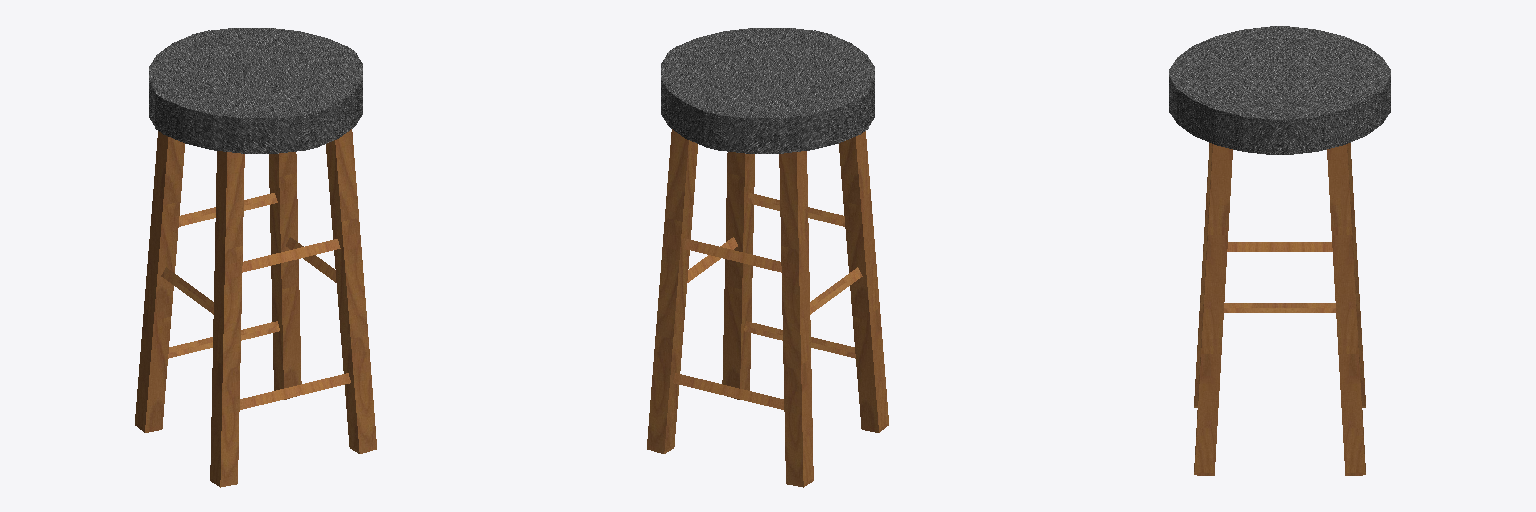
The picture shows the model from 3 angles: view 1: azimuth 30°, elevation 25°; view 2: azimuth 150°, elevation 25°; view 3: azimuth 270°, elevation 25°; orthographic projection.
Parts seen in each view (by area): view 1: Mesh10 chair_stool_simple_quarter2 Simple_stool1 Component_7_1 M, Mesh9 chair_stool_simple_quarter2 Simple_stool1 Component_7_1 Mo, Mesh5 chair_stool_simple_quarter1 Simple_stool1 Component_7_1 Mo, Mesh20 chair_stool_simple_quarter4 Simple_stool1 Component_7_1 M, Mesh15 chair_stool_simple_quarter3 Simple_stool1 Component_7_1 M, Mesh4 chair_stool_simple_quarter1 Simple_stool1 Component_7_1 Mo, Mesh19 chair_stool_simple_quarter4 Simple_stool1 Component_7_1 M, Mesh14 chair_stool_simple_quarter3 Simple_stool1 Component_7_1 M, Mesh3 chair_stool_simple_bar3 chair_stool_simple_quarter1 Simple, Mesh8 chair_stool_simple_bar6 chair_stool_simple_quarter2 Simple, Mesh1 chair_stool_simple_bar1 chair_stool_simple_quarter1 Simple; view 2: Mesh20 chair_stool_simple_quarter4 Simple_stool1 Component_7_1 M, Mesh15 chair_stool_simple_quarter3 Simple_stool1 Component_7_1 M, Mesh19 chair_stool_simple_quarter4 Simple_stool1 Component_7_1 M, Mesh10 chair_stool_simple_quarter2 Simple_stool1 Component_7_1 M, Mesh5 chair_stool_simple_quarter1 Simple_stool1 Component_7_1 Mo, Mesh14 chair_stool_simple_quarter3 Simple_stool1 Component_7_1 M, Mesh4 chair_stool_simple_quarter1 Simple_stool1 Component_7_1 Mo, Mesh9 chair_stool_simple_quarter2 Simple_stool1 Component_7_1 Mo, Mesh13 chair_stool_simple_bar9 chair_stool_simple_quarter3 Simpl, Mesh18 chair_stool_simple_bar12 chair_stool_simple_quarter4 Simp, Mesh11 chair_stool_simple_bar7 chair_stool_simple_quarter3 Simpl; view 3: Mesh4 chair_stool_simple_quarter1 Simple_stool1 Component_7_1 Mo, Mesh14 chair_stool_simple_quarter3 Simple_stool1 Component_7_1 M, Mesh5 chair_stool_simple_quarter1 Simple_stool1 Component_7_1 Mo, Mesh15 chair_stool_simple_quarter3 Simple_stool1 Component_7_1 M, Mesh19 chair_stool_simple_quarter4 Simple_stool1 Component_7_1 M, Mesh9 chair_stool_simple_quarter2 Simple_stool1 Component_7_1 Mo, Mesh20 chair_stool_simple_quarter4 Simple_stool1 Component_7_1 M, Mesh10 chair_stool_simple_quarter2 Simple_stool1 Component_7_1 M, Mesh2 chair_stool_simple_bar2 chair_stool_simple_quarter1 Simple, Mesh12 chair_stool_simple_bar8 chair_stool_simple_quarter3 Simpl.
Boxes of the visible parts, box(x1,y1,x2,y2) form: Mesh10 chair_stool_simple_quarter2 Simple_stool1 Component_7_1 M: box(210, 151, 244, 487); Mesh9 chair_stool_simple_quarter2 Simple_stool1 Component_7_1 Mo: box(155, 68, 319, 153); Mesh5 chair_stool_simple_quarter1 Simple_stool1 Component_7_1 Mo: box(326, 129, 376, 453); Mesh20 chair_stool_simple_quarter4 Simple_stool1 Component_7_1 M: box(135, 131, 184, 432); Mesh15 chair_stool_simple_quarter3 Simple_stool1 Component_7_1 M: box(269, 152, 301, 399); Mesh4 chair_stool_simple_quarter1 Simple_stool1 Component_7_1 Mo: box(255, 46, 362, 150); Mesh19 chair_stool_simple_quarter4 Simple_stool1 Component_7_1 M: box(149, 30, 269, 134); Mesh14 chair_stool_simple_quarter3 Simple_stool1 Component_7_1 M: box(192, 28, 356, 73); Mesh3 chair_stool_simple_bar3 chair_stool_simple_quarter1 Simple: box(292, 373, 350, 396); Mesh8 chair_stool_simple_bar6 chair_stool_simple_quarter2 Simple: box(240, 387, 293, 409); Mesh1 chair_stool_simple_bar1 chair_stool_simple_quarter1 Simple: box(288, 239, 340, 260); Mesh20 chair_stool_simple_quarter4 Simple_stool1 Component_7_1 M: box(779, 151, 813, 487); Mesh15 chair_stool_simple_quarter3 Simple_stool1 Component_7_1 M: box(647, 129, 697, 453); Mesh19 chair_stool_simple_quarter4 Simple_stool1 Component_7_1 M: box(704, 73, 868, 153); Mesh10 chair_stool_simple_quarter2 Simple_stool1 Component_7_1 M: box(839, 131, 888, 432); Mesh5 chair_stool_simple_quarter1 Simple_stool1 Component_7_1 Mo: box(722, 152, 754, 399); Mesh14 chair_stool_simple_quarter3 Simple_stool1 Component_7_1 M: box(661, 46, 773, 150); Mesh4 chair_stool_simple_quarter1 Simple_stool1 Component_7_1 Mo: box(667, 28, 831, 78); Mesh9 chair_stool_simple_quarter2 Simple_stool1 Component_7_1 Mo: box(757, 30, 874, 134); Mesh13 chair_stool_simple_bar9 chair_stool_simple_quarter3 Simpl: box(673, 373, 731, 396); Mesh18 chair_stool_simple_bar12 chair_stool_simple_quarter4 Simp: box(730, 387, 783, 409); Mesh11 chair_stool_simple_bar7 chair_stool_simple_quarter3 Simpl: box(683, 239, 735, 260); Mesh4 chair_stool_simple_quarter1 Simple_stool1 Component_7_1 Mo: box(1169, 69, 1289, 154); Mesh14 chair_stool_simple_quarter3 Simple_stool1 Component_7_1 M: box(1270, 69, 1390, 154); Mesh5 chair_stool_simple_quarter1 Simple_stool1 Component_7_1 Mo: box(1194, 144, 1232, 475); Mesh15 chair_stool_simple_quarter3 Simple_stool1 Component_7_1 M: box(1327, 144, 1365, 475); Mesh19 chair_stool_simple_quarter4 Simple_stool1 Component_7_1 M: box(1270, 26, 1390, 112); Mesh9 chair_stool_simple_quarter2 Simple_stool1 Component_7_1 Mo: box(1169, 26, 1289, 112); Mesh20 chair_stool_simple_quarter4 Simple_stool1 Component_7_1 M: box(1348, 143, 1365, 407); Mesh10 chair_stool_simple_quarter2 Simple_stool1 Component_7_1 M: box(1194, 143, 1211, 407); Mesh2 chair_stool_simple_bar2 chair_stool_simple_quarter1 Simple: box(1224, 303, 1279, 312); Mesh12 chair_stool_simple_bar8 chair_stool_simple_quarter3 Simpl: box(1280, 303, 1335, 312).
Bounding box in the file's own units: 6.09 × 11.06 × 6.09.
Materials: 2 (2 with a texture image).